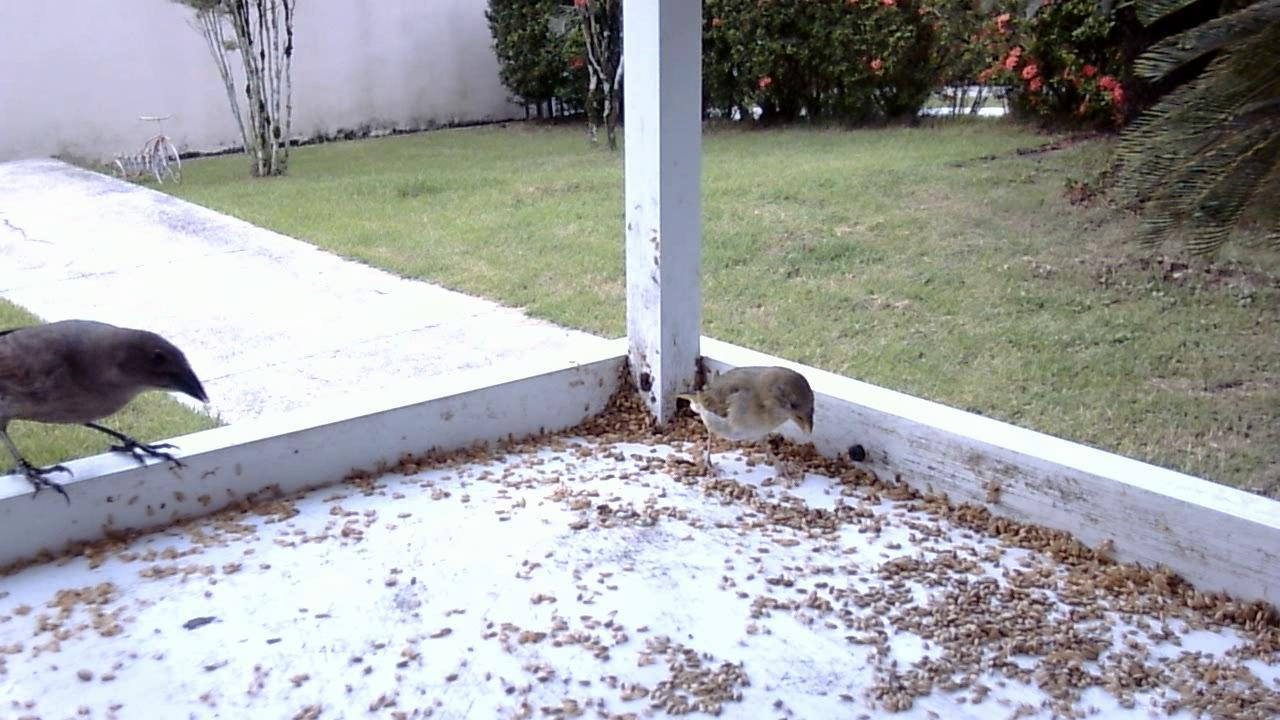canario_do_amazonas: (684, 363, 818, 463)
chupim: (4, 316, 220, 513)
